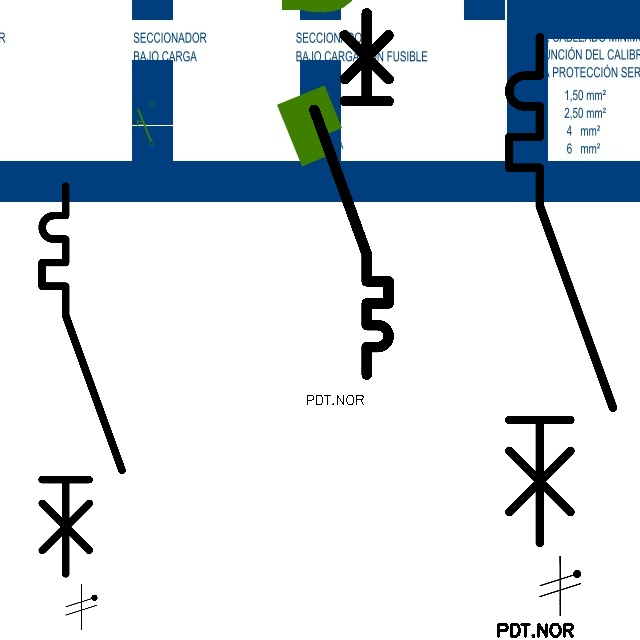interruptor_termomagnetico: (496, 24, 626, 555), (32, 176, 132, 584), (305, 4, 398, 384)
